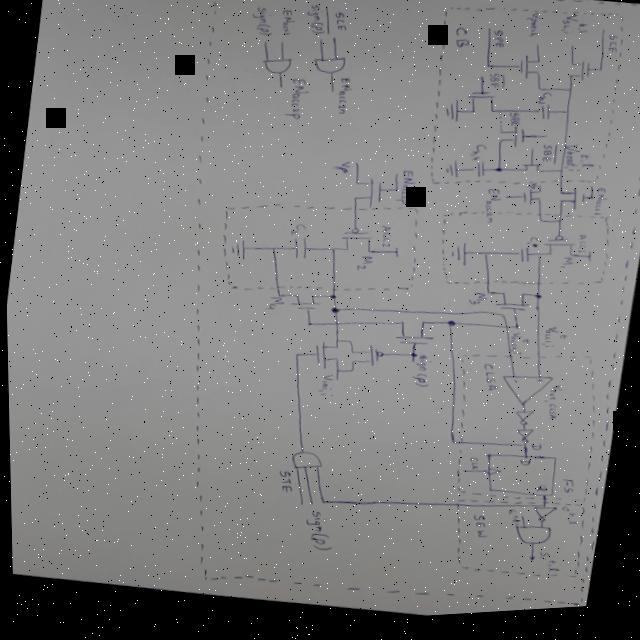capacitor: (287, 239, 308, 264), (514, 251, 532, 270), (470, 166, 487, 186), (535, 110, 552, 128)
crossover: (331, 324, 340, 331), (501, 331, 507, 334)
ground: (445, 245, 468, 274), (225, 239, 247, 264), (441, 102, 460, 129), (440, 163, 462, 186)
junction: (327, 309, 340, 319), (326, 297, 336, 304), (532, 299, 541, 306), (493, 172, 502, 179), (267, 249, 276, 255), (444, 326, 453, 332), (480, 256, 488, 262), (595, 74, 603, 80), (498, 319, 505, 325), (304, 325, 312, 330), (484, 70, 492, 75), (447, 445, 455, 450), (327, 251, 335, 256), (566, 94, 572, 100), (292, 355, 298, 361), (347, 372, 353, 378), (345, 343, 351, 349), (557, 175, 563, 181), (562, 116, 569, 121), (554, 226, 561, 231), (537, 225, 543, 230), (511, 331, 517, 336), (333, 342, 339, 347), (534, 258, 540, 263), (408, 357, 414, 362), (517, 449, 523, 454), (537, 94, 543, 98), (392, 193, 398, 197), (485, 297, 489, 301), (319, 504, 323, 508), (276, 298, 280, 302), (588, 204, 593, 207), (333, 374, 337, 377), (540, 510, 544, 513)
source: (584, 257, 590, 269), (391, 252, 398, 262)
terminal: (523, 560, 532, 568), (527, 152, 535, 159), (501, 201, 510, 207), (484, 32, 492, 38), (540, 141, 548, 147), (329, 41, 337, 47), (277, 43, 284, 49), (599, 35, 605, 41), (569, 51, 575, 57), (533, 50, 540, 55), (316, 41, 323, 46), (516, 520, 523, 525), (477, 81, 483, 86), (459, 473, 464, 479), (277, 88, 283, 93), (408, 364, 413, 369), (296, 505, 301, 510), (353, 165, 358, 170), (392, 178, 398, 182), (262, 43, 267, 47), (587, 193, 593, 196), (307, 505, 311, 509), (536, 192, 540, 195), (332, 382, 336, 385), (331, 93, 335, 96)
text: (281, 78, 314, 126), (300, 512, 334, 556), (557, 148, 597, 184), (302, 3, 334, 41), (406, 356, 434, 395), (391, 172, 418, 211), (246, 7, 275, 42), (537, 390, 563, 429), (331, 79, 354, 123), (556, 18, 591, 46), (479, 192, 504, 231), (536, 329, 568, 359), (531, 555, 560, 582), (274, 10, 298, 42), (475, 368, 499, 399), (521, 16, 544, 47), (504, 336, 531, 362), (312, 375, 335, 403), (466, 518, 488, 547), (589, 193, 608, 226), (464, 146, 488, 171), (272, 472, 294, 497), (450, 31, 472, 55), (556, 511, 578, 534), (537, 149, 558, 173), (374, 228, 393, 254), (259, 297, 284, 316), (331, 14, 350, 37), (464, 295, 488, 313), (328, 162, 350, 180), (353, 259, 373, 278), (486, 77, 506, 96), (501, 513, 520, 533), (572, 239, 588, 261), (505, 116, 522, 136), (533, 96, 553, 113), (286, 225, 306, 242), (605, 41, 620, 61), (491, 36, 505, 56), (557, 485, 573, 501), (464, 462, 479, 477), (557, 262, 572, 277), (522, 242, 539, 255), (532, 489, 547, 502), (524, 186, 539, 198), (515, 464, 530, 474), (527, 448, 540, 458), (531, 384, 542, 391), (509, 384, 517, 392)
transistor: (389, 320, 437, 355), (347, 179, 385, 215), (344, 344, 384, 375), (462, 92, 499, 123), (335, 229, 373, 259), (307, 342, 341, 375), (552, 191, 588, 220), (491, 295, 530, 321), (540, 239, 575, 267), (492, 129, 527, 157), (513, 58, 543, 89), (285, 294, 322, 318), (564, 65, 592, 90), (518, 193, 543, 216), (519, 166, 544, 182)
